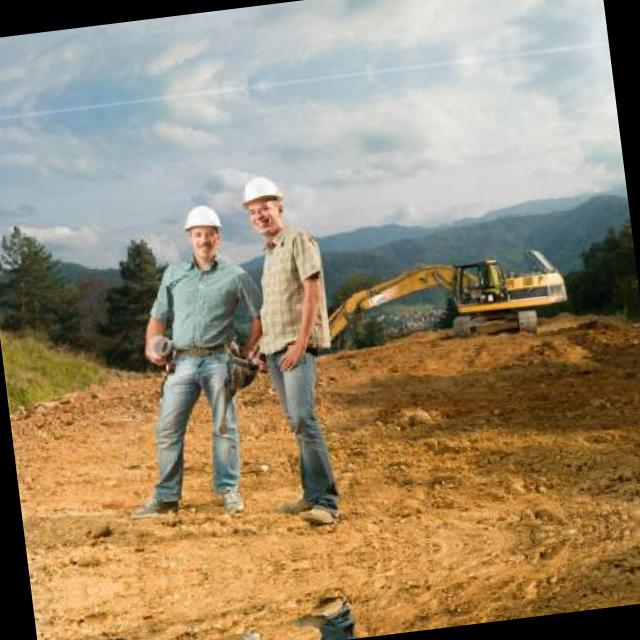helmet: (234, 171, 292, 241), (174, 196, 230, 266)
